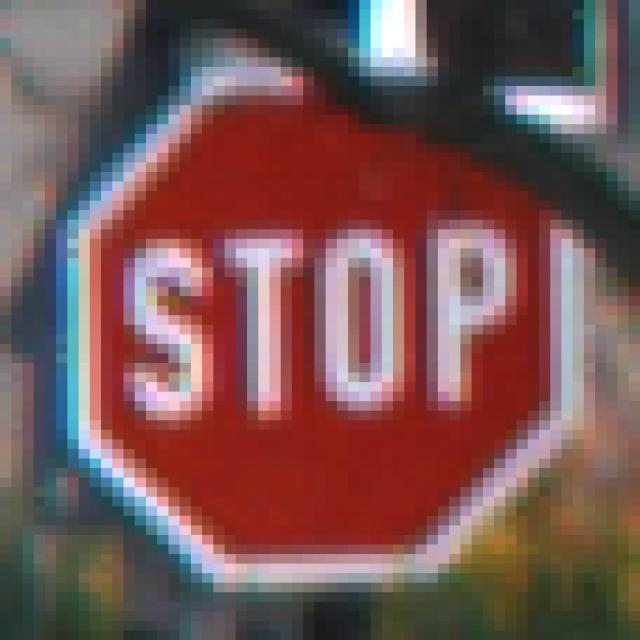STOP: (57, 58, 585, 584)
